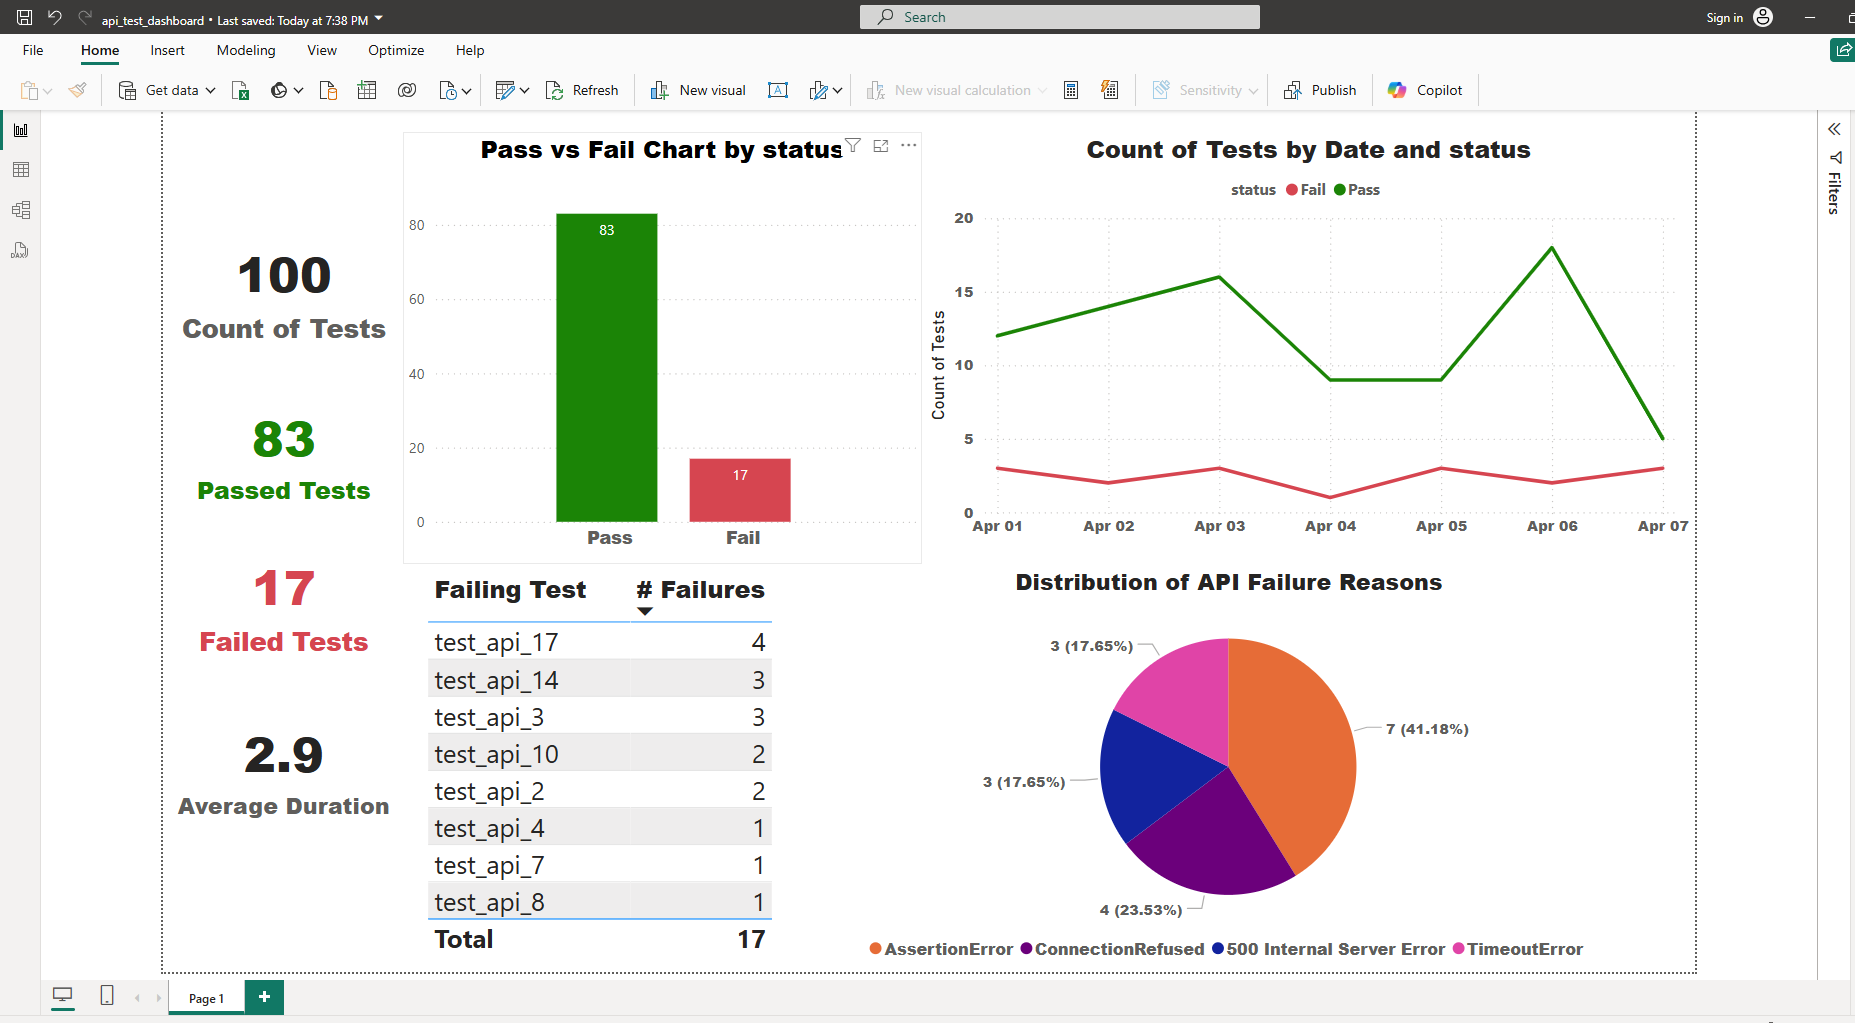

The page's visual inventory and layout, read from the dashboard file:
{"tool":"powerbi","page":{"name":"Page 1","canvas":[1280,720],"ordinal":0},"visuals":[{"type":"card","fields":{"Values":["CountNonNull(test_results.test_name)"]},"box":[5.8,83.3,190.1,135.7],"z":0},{"type":"card","fields":{"Values":["CountNonNull(test_results.test_name)"]},"box":[5.8,219,190.1,135.7],"z":1000},{"type":"card","fields":{"Values":["CountNonNull(test_results.test_name)"]},"box":[5.8,340.9,190.1,143.8],"z":2000},{"type":"card","fields":{"Values":["Avg(test_results.duration)"]},"box":[5.8,478.8,190.1,143.8],"z":3000},{"type":"clusteredColumnChart","fields":{"Category":["test_results.status"],"Y":["CountNonNull(test_results.test_name)"]},"box":[200.6,18.6,433.6,360.6],"z":4000},{"type":"tableEx","fields":{"Values":["test_results.test_name","CountNonNull(test_results.test_name)"]},"box":[215.7,379.1,323.5,340.9],"z":5000},{"type":"lineChart","fields":{"Series":["test_results.status"],"Category":["test_results.timestamp"],"Y":["CountNonNull(test_results.test_name)"]},"box":[634.2,18.6,645.8,349],"z":5001},{"type":"pieChart","title":"Distribution of API Failure Reasons","fields":{"Category":["test_results.error_message"],"Y":["CountNonNull(test_results.error_message)"]},"box":[511.3,380.3,758.3,339.7],"z":5002}]}

Visuals, with their boxes on the page's 1280x720 design canvas (x1, y1, x2, y2). These are canvas units, not pixel positions in the 1855x1023 screenshot, which may show the page scaled, cropped or inside an application window:
card - CountNonNull(test_results.test_name): crop(6, 83, 196, 219)
card - CountNonNull(test_results.test_name): crop(6, 219, 196, 355)
card - CountNonNull(test_results.test_name): crop(6, 341, 196, 485)
card - Avg(test_results.duration): crop(6, 479, 196, 623)
clusteredColumnChart - test_results.status x CountNonNull(test_results.test_name): crop(201, 19, 634, 379)
tableEx - test_results.test_name x CountNonNull(test_results.test_name): crop(216, 379, 539, 720)
lineChart - test_results.status x test_results.timestamp: crop(634, 19, 1280, 368)
"Distribution of API Failure Reasons" pieChart: crop(511, 380, 1270, 720)
